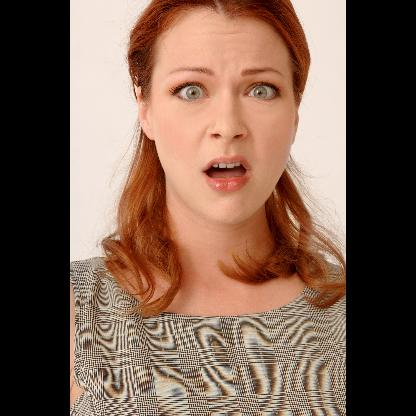Female: (138, 10, 298, 224)
